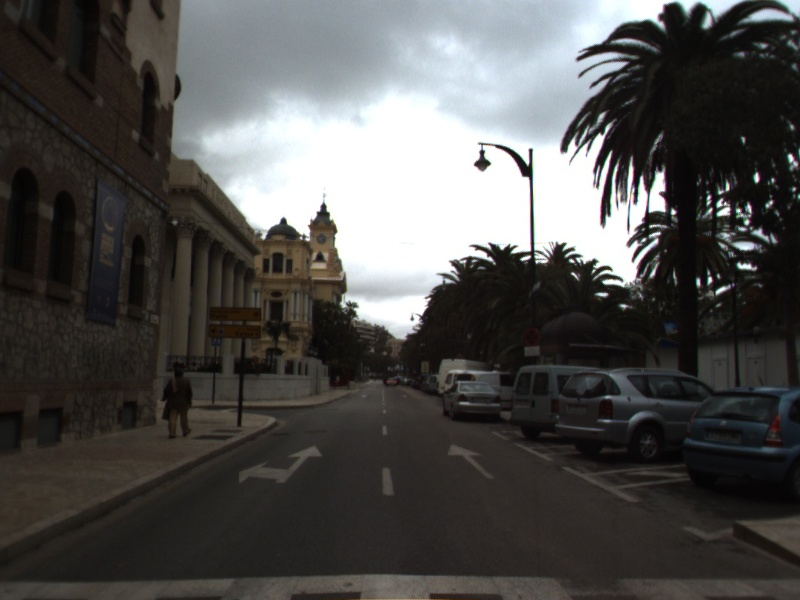STRAIGHT: (445, 441, 497, 481)
STRAIGHT_LEFT: (237, 443, 325, 486)
